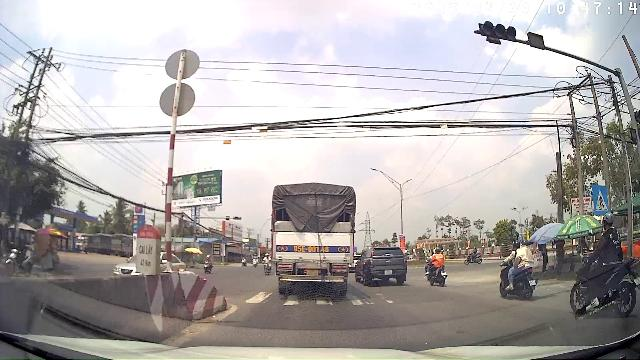423a-duong-nguoi-di-bo-sang-ngang-1: (593, 185, 609, 213)
